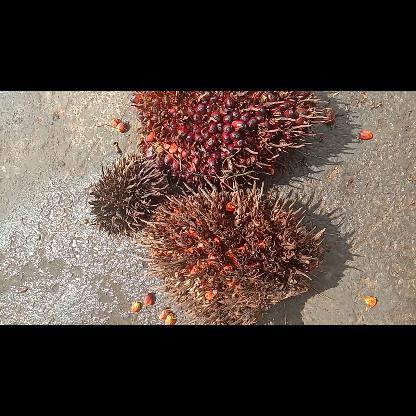Janjang kosong: (89, 152, 173, 240)
TBS masak: (130, 90, 330, 188)
Terlalu masak: (136, 178, 324, 322)
